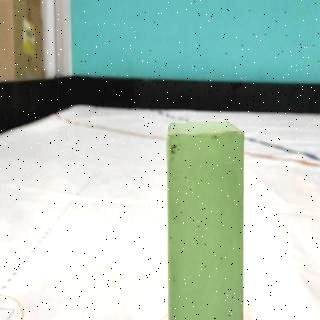greenbox: (167, 124, 244, 320)
